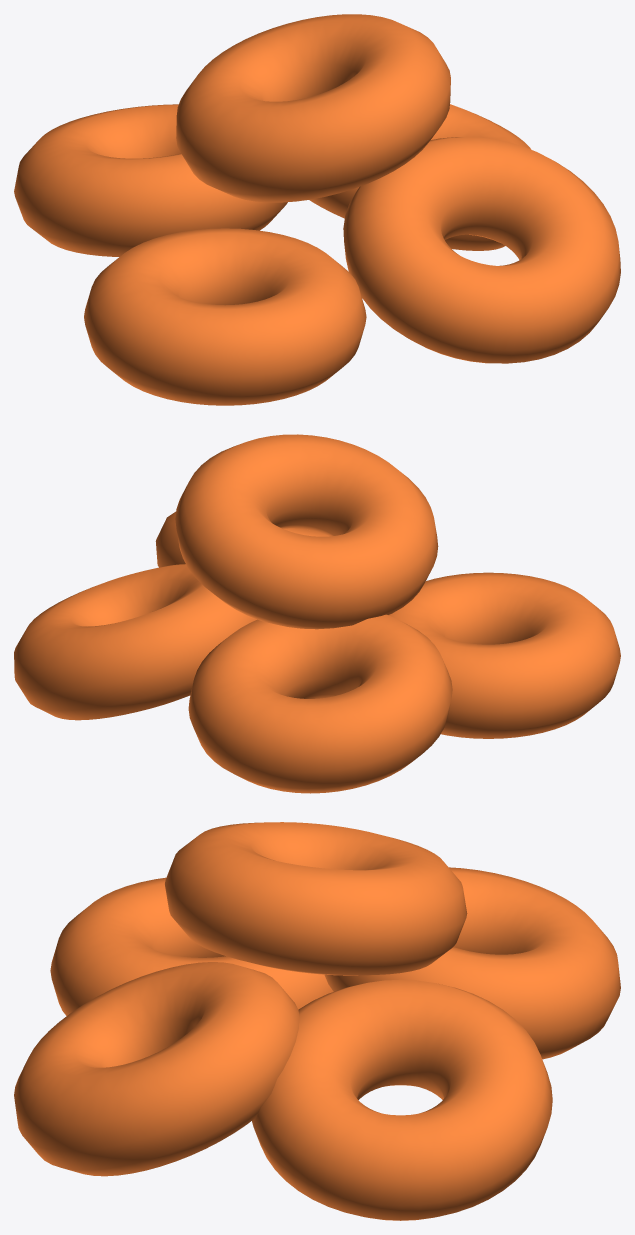
Rendered from donat.obj.
3 views of the same model, one above another, from view 1: azimuth 30°, elevation 25°; view 2: azimuth 150°, elevation 25°; view 3: azimuth 270°, elevation 25° (orthographic). The views are drawn at different scales.
Parts seen in each view (by area): view 1: Doughnut_Torus.008; view 2: Doughnut_Torus.008; view 3: Doughnut_Torus.008.
Part boxes in pixels (x1,y1,x2,y2): Doughnut_Torus.008: (14, 14, 620, 405); Doughnut_Torus.008: (14, 434, 620, 793); Doughnut_Torus.008: (14, 822, 620, 1220).
Size of the model in its own units: 0.5542 by 0.2615 by 0.523.
